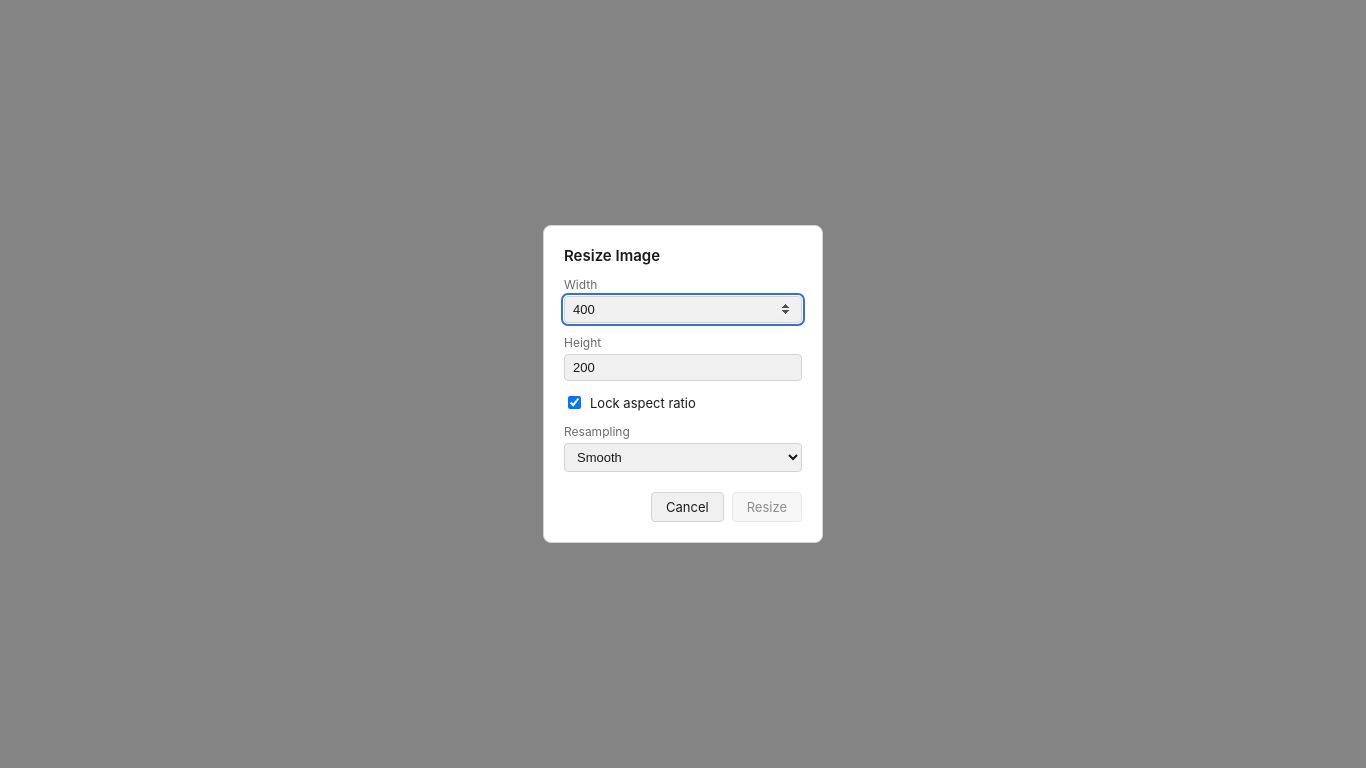
Scenario: ResizeDialog › changing width updates height proportionally while locked
This screenshot has width=1366, height=768.
Replace the text in the number field labelled "Width" with "200" at (683, 310), box [564, 296, 802, 323]
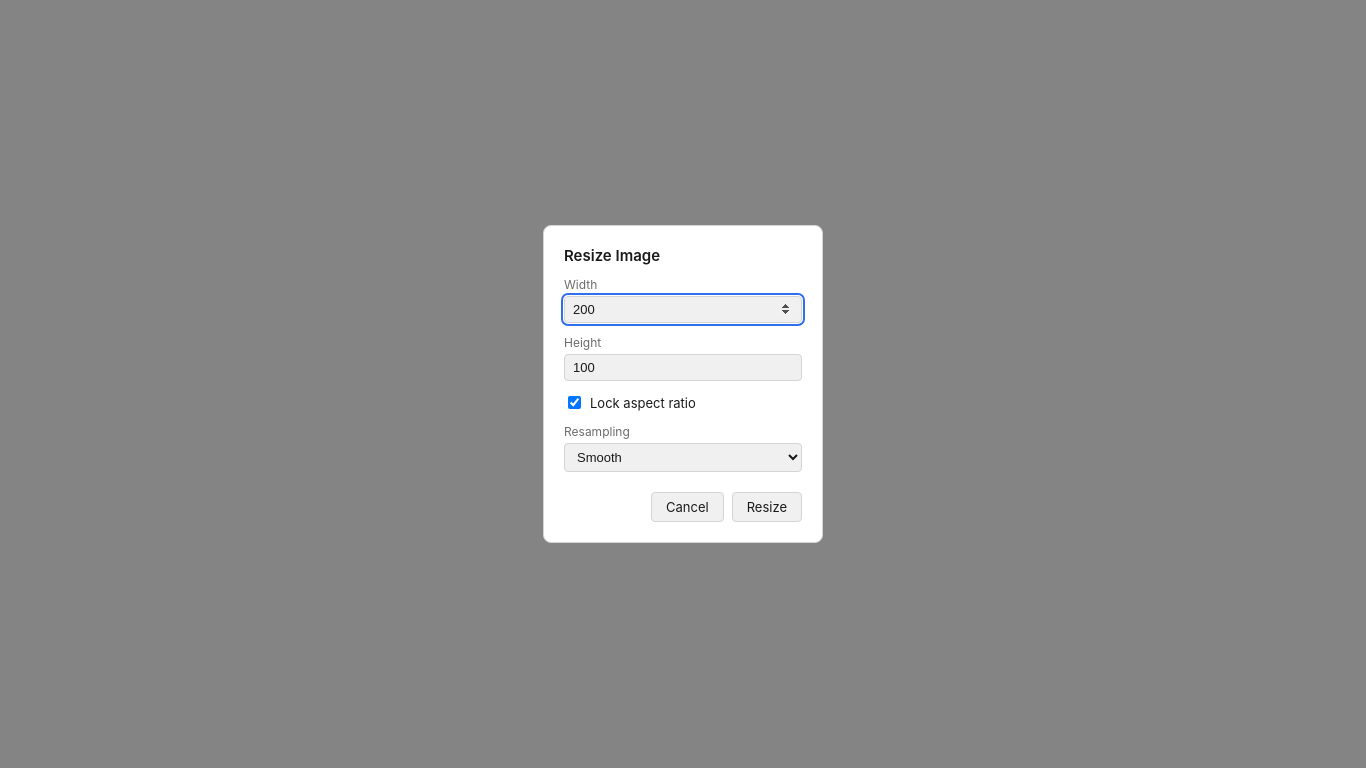
expect the number field labelled "Height" holds "100": met, box [564, 354, 802, 381]
